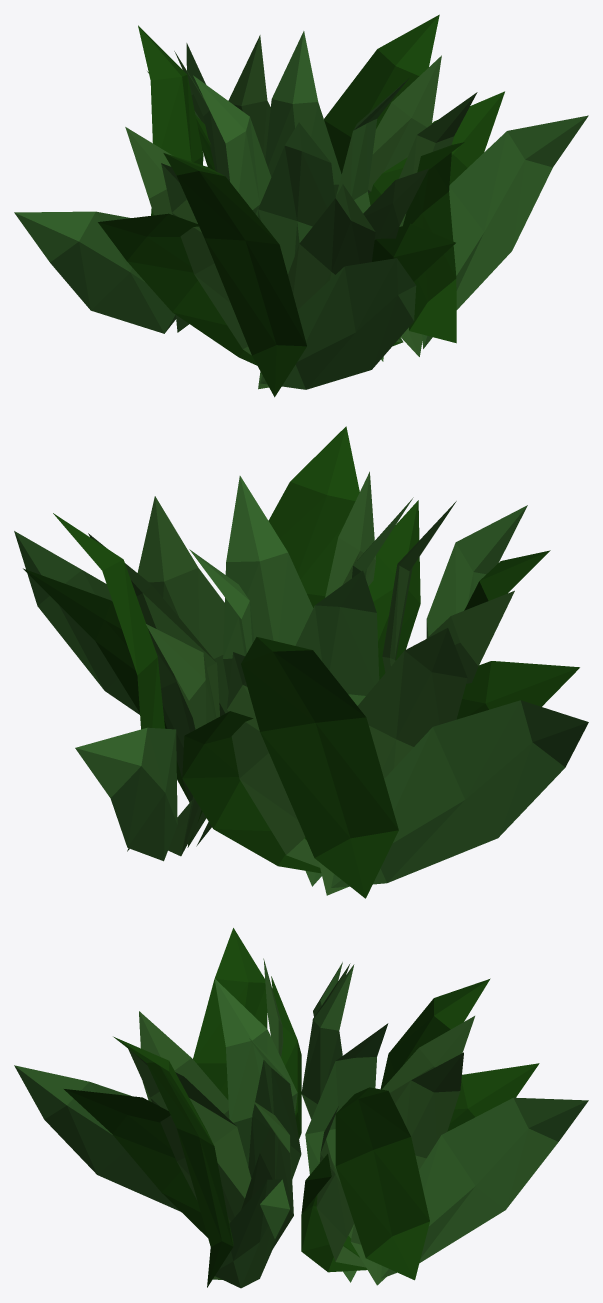
File: herb.gltf
3 renders of one model, top to bottom at view 1: azimuth 30°, elevation 25°; view 2: azimuth 150°, elevation 25°; view 3: azimuth 270°, elevation 25°, orthographic. The views are drawn at different scales.
Size of the model in its own units: 152 by 74 by 152.
Materials: 1 (1 with a texture image).
